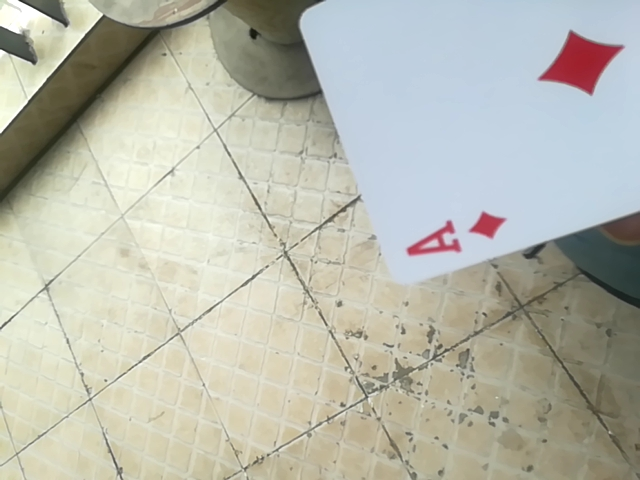fk a: (298, 3, 640, 281)
